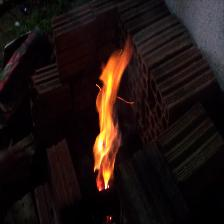fire: (75, 38, 157, 204)
